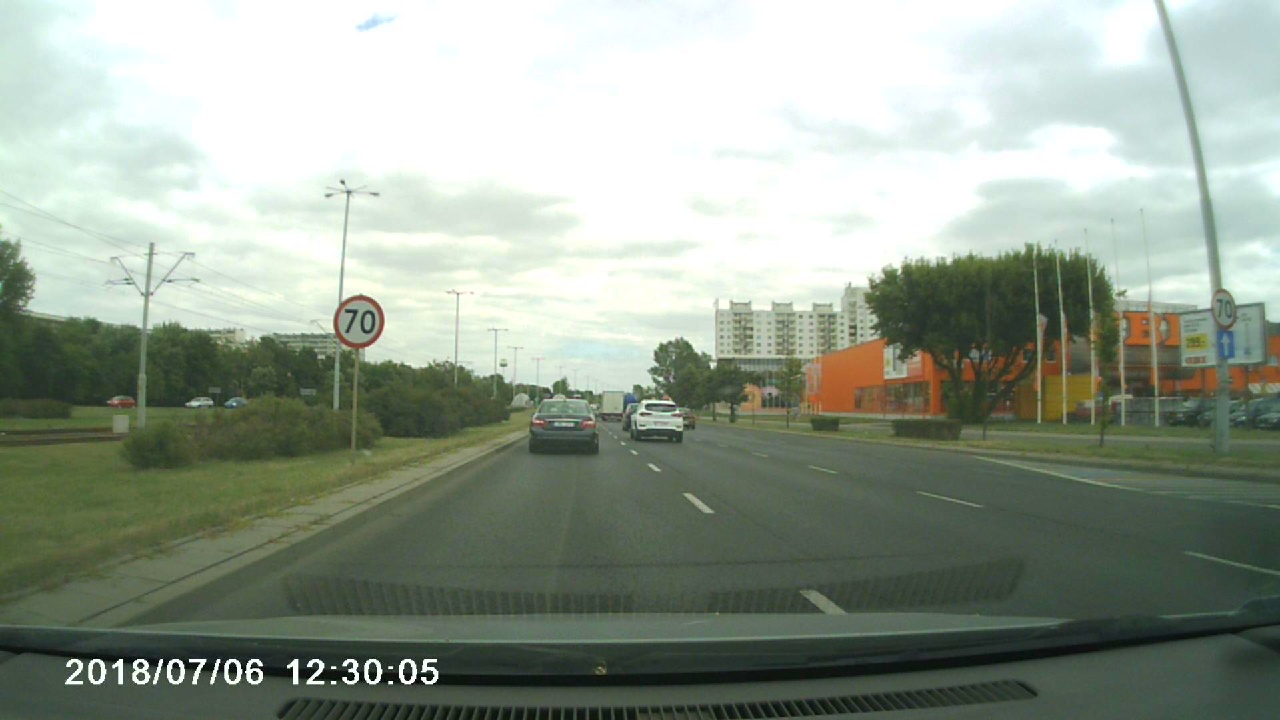B33_70: (333, 295, 385, 348), (1211, 288, 1237, 330)
D3: (1214, 330, 1235, 359)
